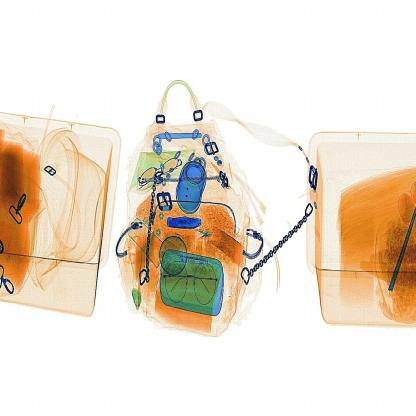knife: (169, 216, 209, 235)
